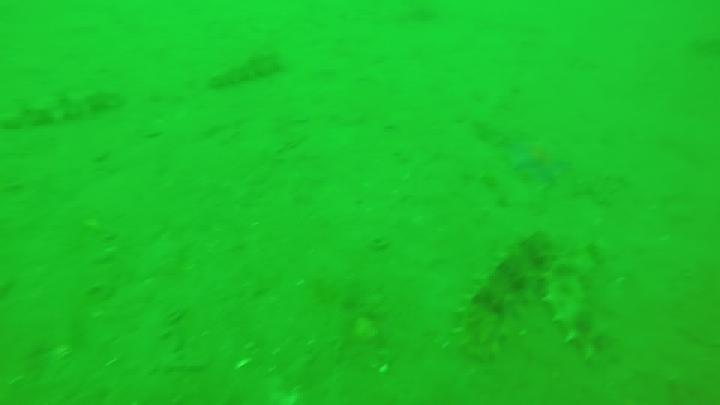holothurian: (455, 236, 548, 362), (541, 244, 617, 368), (13, 97, 118, 129), (202, 50, 288, 85)
starfish: (505, 139, 569, 179)
